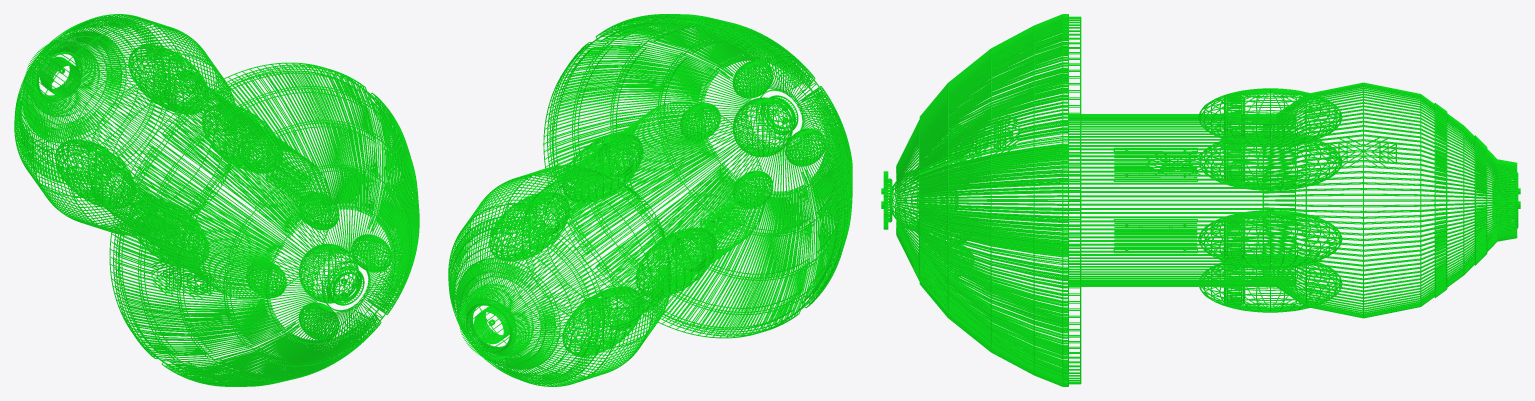
Rendered from warp-generator-wireframe.glb.
3 views of the same model, side by side, from view 1: azimuth 30°, elevation 25°; view 2: azimuth 150°, elevation 25°; view 3: azimuth 270°, elevation 25° (orthographic). The views are drawn at different scales.
Visible parts, largest first — view 1: warp-field-generator technical wire, flux-capacitor-and-energy-ducts technical wire, chassis technical wire, energy-flow-monitoring technical wire; view 2: warp-field-generator technical wire, flux-capacitor-and-energy-ducts technical wire, chassis technical wire, energy-flow-monitoring technical wire; view 3: warp-field-generator technical wire, flux-capacitor-and-energy-ducts technical wire, chassis technical wire, energy-flow-monitoring technical wire.
Boxes of the visible parts, box(x1,y1,x2,y2) form: warp-field-generator technical wire: box(109, 62, 419, 386); flux-capacitor-and-energy-ducts technical wire: box(14, 14, 282, 266); chassis technical wire: box(88, 73, 331, 298); energy-flow-monitoring technical wire: box(246, 192, 391, 340); warp-field-generator technical wire: box(543, 14, 852, 338); flux-capacitor-and-energy-ducts technical wire: box(448, 132, 716, 386); chassis technical wire: box(522, 102, 765, 327); energy-flow-monitoring technical wire: box(680, 60, 825, 208); warp-field-generator technical wire: box(881, 14, 1081, 386); flux-capacitor-and-energy-ducts technical wire: box(1198, 82, 1520, 318); chassis technical wire: box(1068, 114, 1295, 286); energy-flow-monitoring technical wire: box(889, 123, 974, 278).
Bounding box in the file's own units: 1.3 × 1.3 × 2.23.
